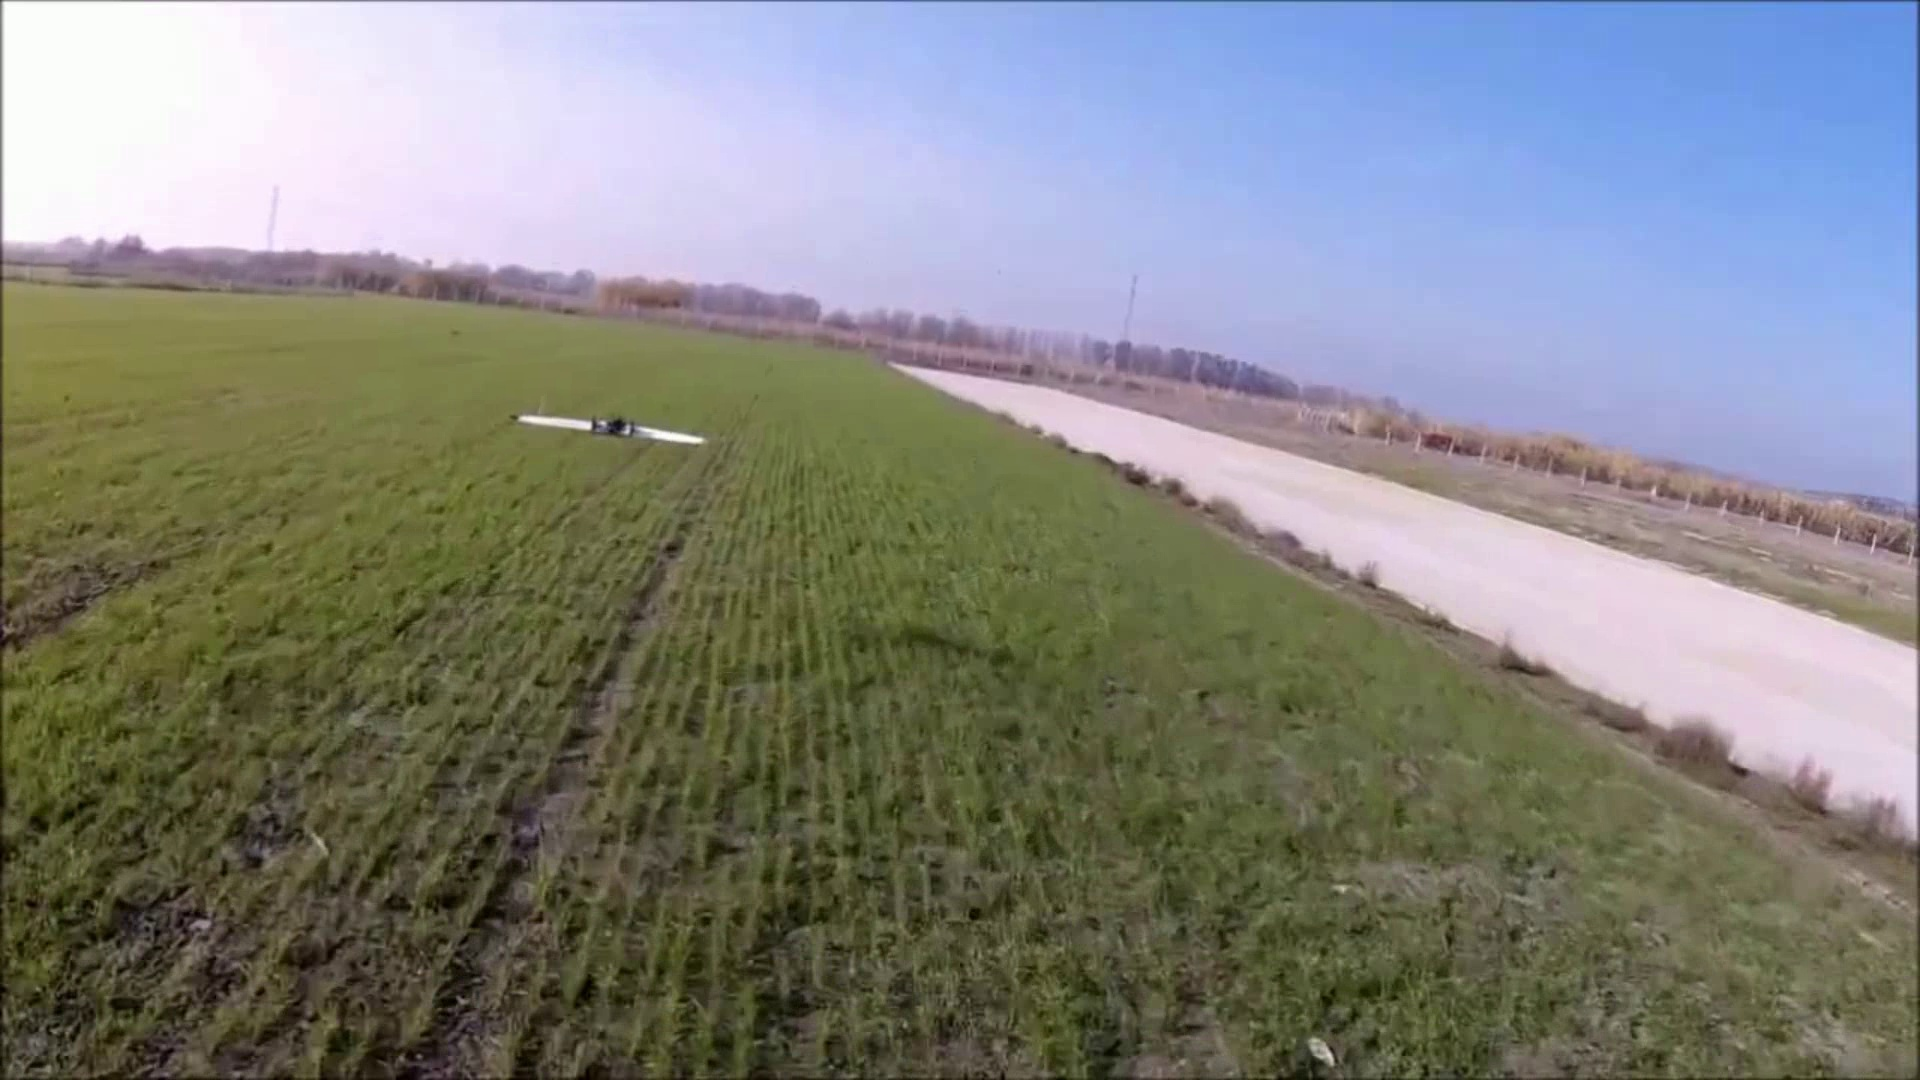airplane: (510, 407, 707, 444)
